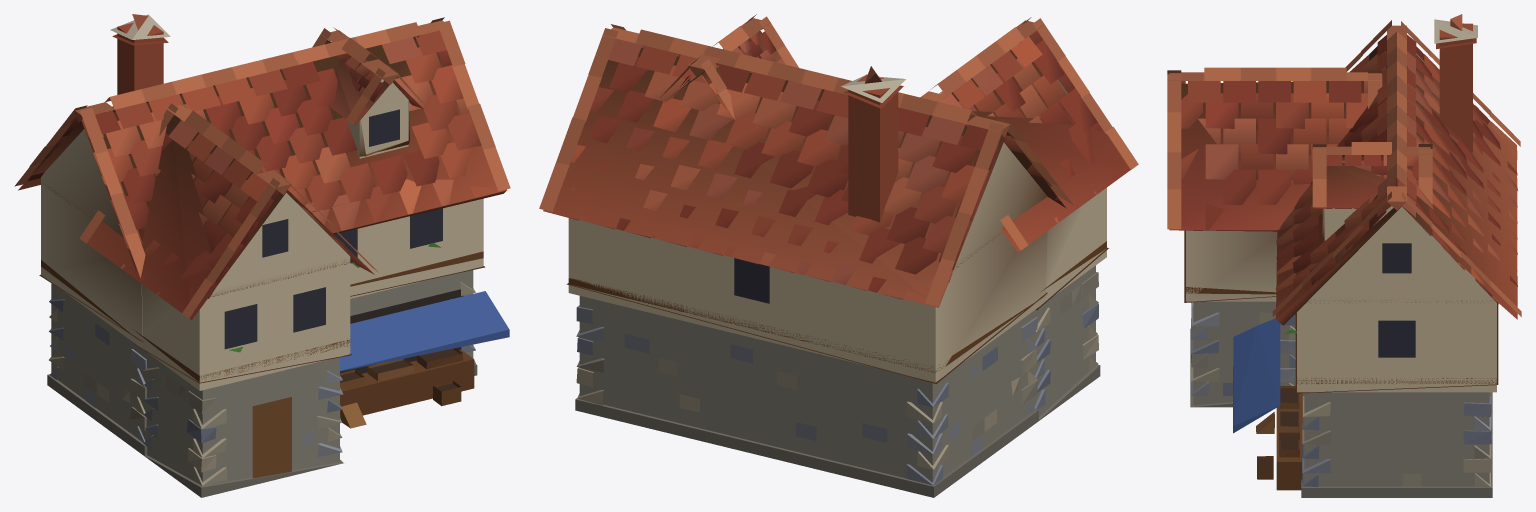
Rendered from town_house_corner-lod1.glb.
The picture shows the model from 3 angles, left to right: view 1: azimuth 30°, elevation 25°; view 2: azimuth 150°, elevation 25°; view 3: azimuth 270°, elevation 25°; orthographic projection. The views are drawn at different scales.
Parts seen in each view (by area): view 1: town_house_corner; view 2: town_house_corner; view 3: town_house_corner.
Boxes of the visible parts, x1,y1,x2,y2 form: town_house_corner: [14, 14, 510, 497]; town_house_corner: [539, 14, 1138, 497]; town_house_corner: [1167, 14, 1521, 497].
Size of the model in its own units: 11.47 by 10.68 by 9.57.
